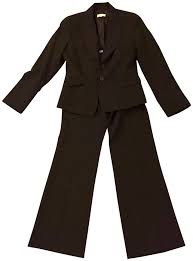F_W_suit jacket: (1, 1, 193, 120)
